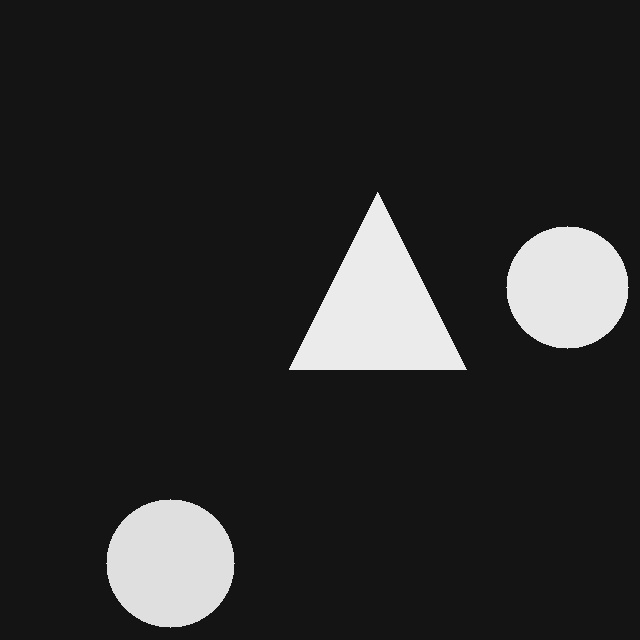circle: (106, 499, 234, 627), (506, 226, 628, 348)
triangle: (289, 192, 466, 369)
